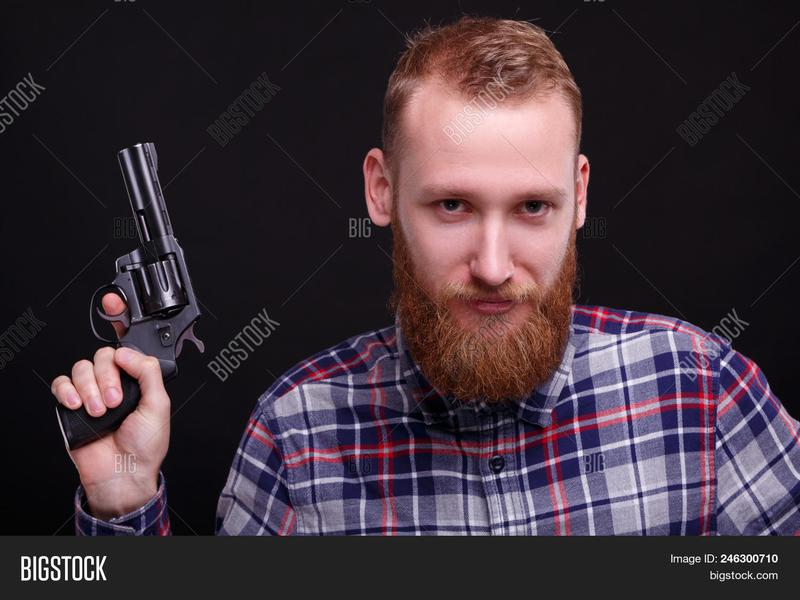Revolver: (67, 124, 199, 423)
